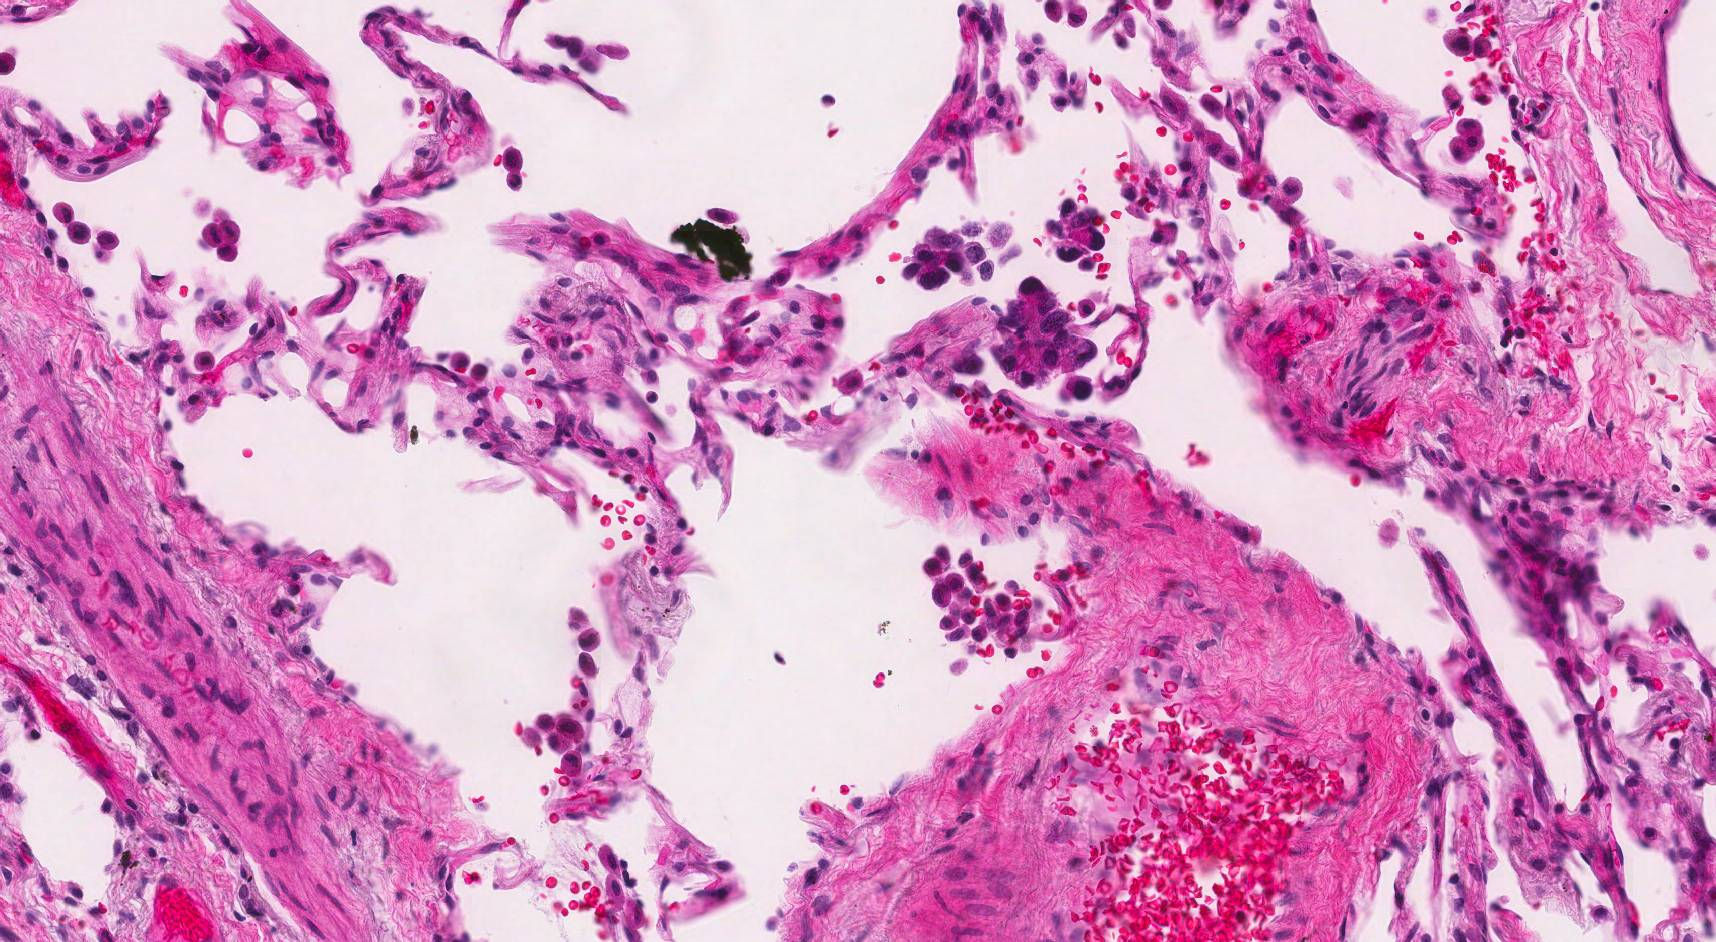stas: (989, 277, 1098, 400), (900, 221, 1025, 290), (1041, 200, 1116, 269)
